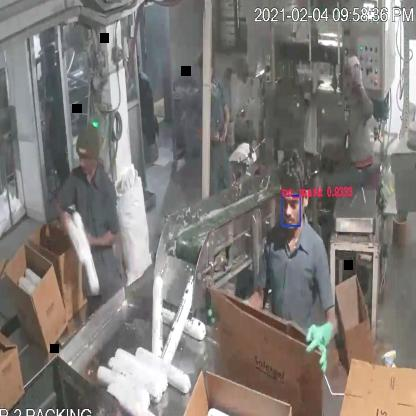glove: (306, 311, 348, 380)
no_glove: (47, 184, 76, 251), (77, 219, 121, 251), (218, 92, 237, 150), (41, 95, 54, 152)
